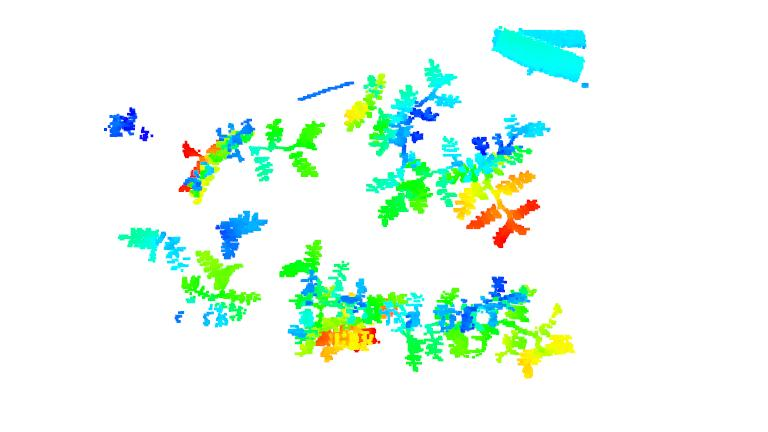chickpea: (397, 273, 576, 380), (363, 54, 458, 225), (436, 112, 552, 247), (277, 238, 409, 353), (170, 115, 334, 204), (173, 249, 257, 329), (111, 224, 192, 276), (342, 63, 389, 134), (212, 209, 272, 258)
